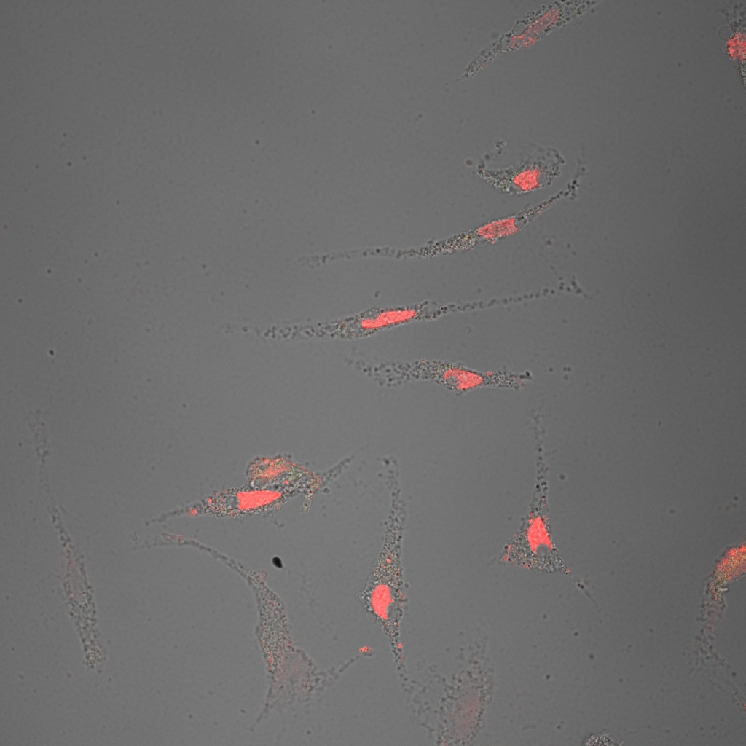dead: (225, 545, 346, 735), (497, 416, 580, 603), (151, 452, 354, 525), (354, 484, 419, 692), (270, 299, 562, 343), (458, 1, 606, 80), (334, 350, 556, 399), (391, 207, 578, 256), (470, 135, 578, 208)
